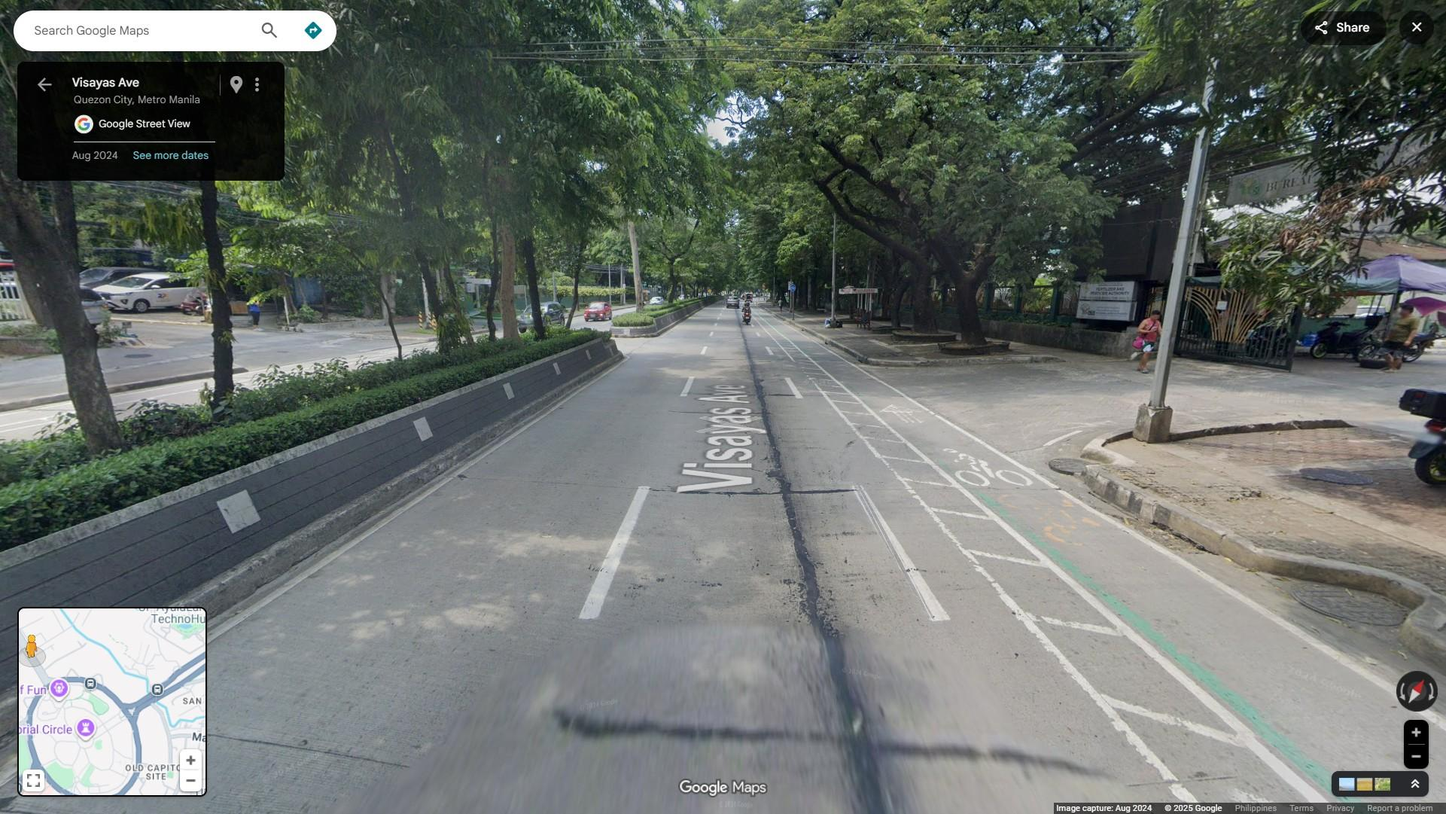pedestrian: (1379, 303, 1419, 374), (1132, 309, 1165, 373), (249, 291, 264, 332), (777, 296, 784, 313)
